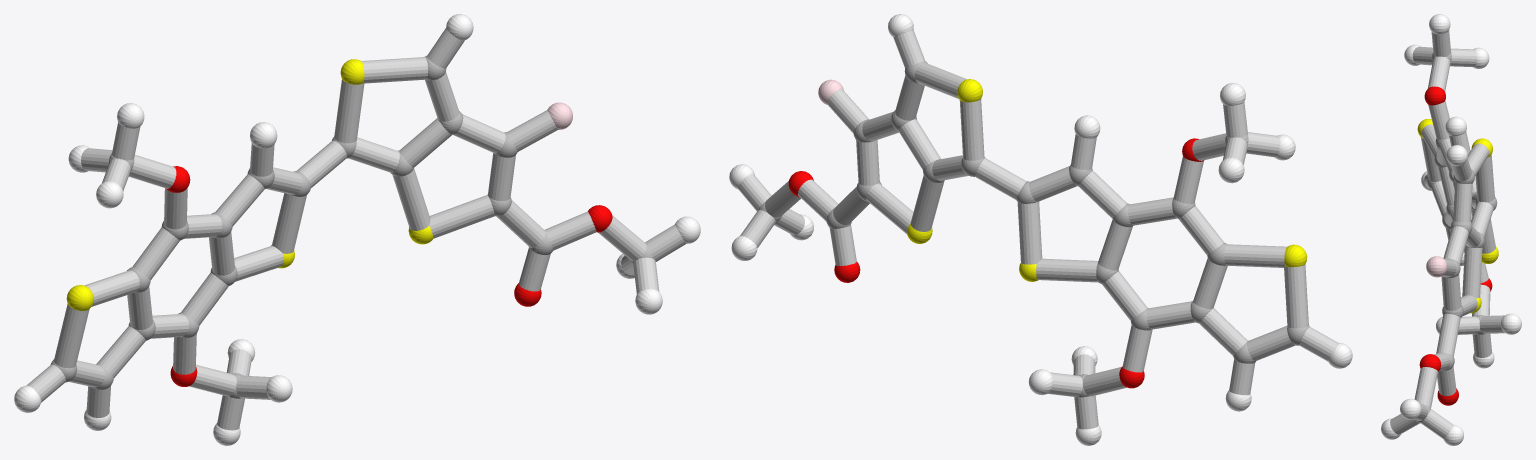
The model's file is Dimethoxy_Benzodithiophene_Phi_25_Theta_340_Methylcarbonyl_3_Fluoro_Thienothiophene.glb.
3 views of the same model, side by side, from view 1: azimuth 30°, elevation 25°; view 2: azimuth 150°, elevation 25°; view 3: azimuth 270°, elevation 25° (orthographic). The views are drawn at different scales.
Parts seen in each view (by area): view 1: grp15205, grp8689, grp1, grp13395, grp7241; view 2: grp15205, grp8689, grp1, grp7241, grp13395; view 3: grp15205, grp8689, grp1, grp13395, grp7241, grp14843.
Part boxes in pixels (x1=…): grp15205: x1=26, y1=28, x2=686, y2=430; grp8689: x1=14, y1=14, x2=700, y2=445; grp1: x1=50, y1=55, x2=653, y2=398; grp13395: x1=166, y1=166, x2=612, y2=386; grp7241: x1=66, y1=59, x2=433, y2=310; grp15205: x1=738, y1=29, x2=1338, y2=429; grp8689: x1=729, y1=14, x2=1352, y2=445; grp1: x1=758, y1=61, x2=1309, y2=397; grp7241: x1=906, y1=79, x2=1307, y2=281; grp13395: x1=788, y1=138, x2=1203, y2=388; grp15205: x1=1390, y1=30, x2=1504, y2=438; grp8689: x1=1381, y1=14, x2=1521, y2=445; grp1: x1=1415, y1=52, x2=1497, y2=423; grp13395: x1=1419, y1=86, x2=1492, y2=405; grp7241: x1=1417, y1=119, x2=1498, y2=313; grp14843: x1=1426, y1=256, x2=1447, y2=277.
Bounding box in the file's own units: 16.85 × 9.41 × 3.94.
